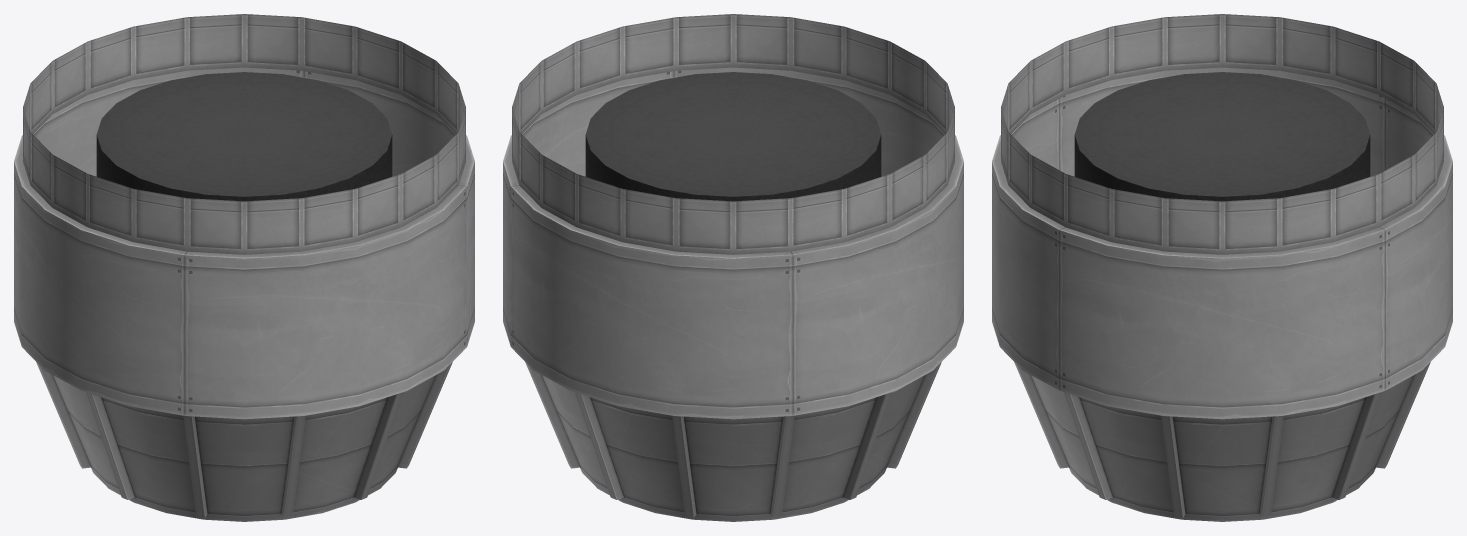
Rendered from big engine mount.obj.
3 views of the same model, side by side, from view 1: azimuth 30°, elevation 25°; view 2: azimuth 150°, elevation 25°; view 3: azimuth 270°, elevation 25° (orthographic).
Visible parts, largest first — view 1: 1p5; view 2: 1p5; view 3: 1p5.
Part boxes in pixels (x1=…): 1p5: x1=14, y1=14, x2=474, y2=521; 1p5: x1=503, y1=14, x2=963, y2=521; 1p5: x1=992, y1=14, x2=1452, y2=521.
Bounding box in the file's own units: 1.95 × 1.62 × 1.95.
Materials: 1 (1 with a texture image).
